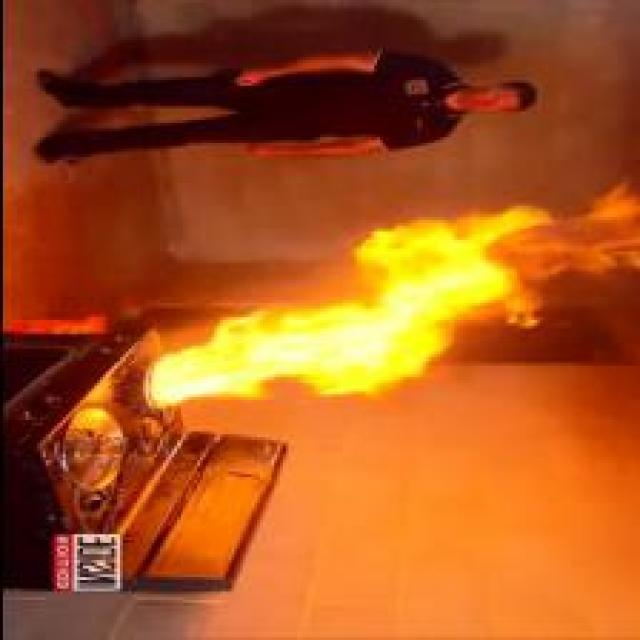Fire: (148, 188, 640, 408)
